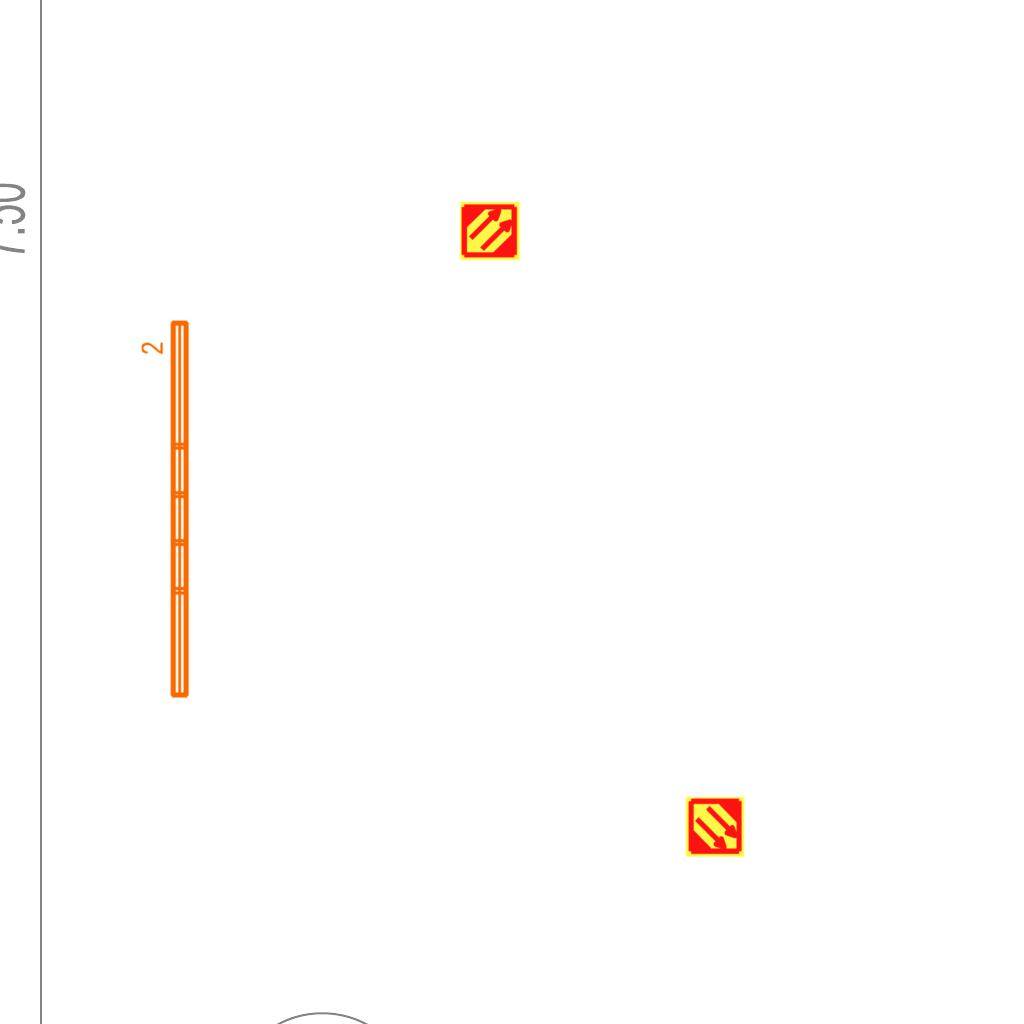ASR_Ansaugrauchmelder: (684, 796, 746, 858), (459, 200, 521, 262)
Ambulanz_Pendelleuchte_LED: (139, 316, 195, 703)
